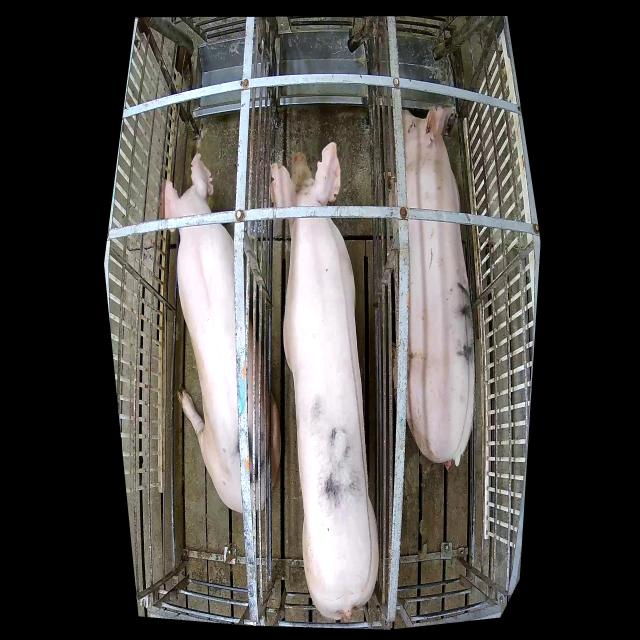pig: (270, 142, 379, 622), (160, 153, 281, 512), (402, 105, 475, 468)
